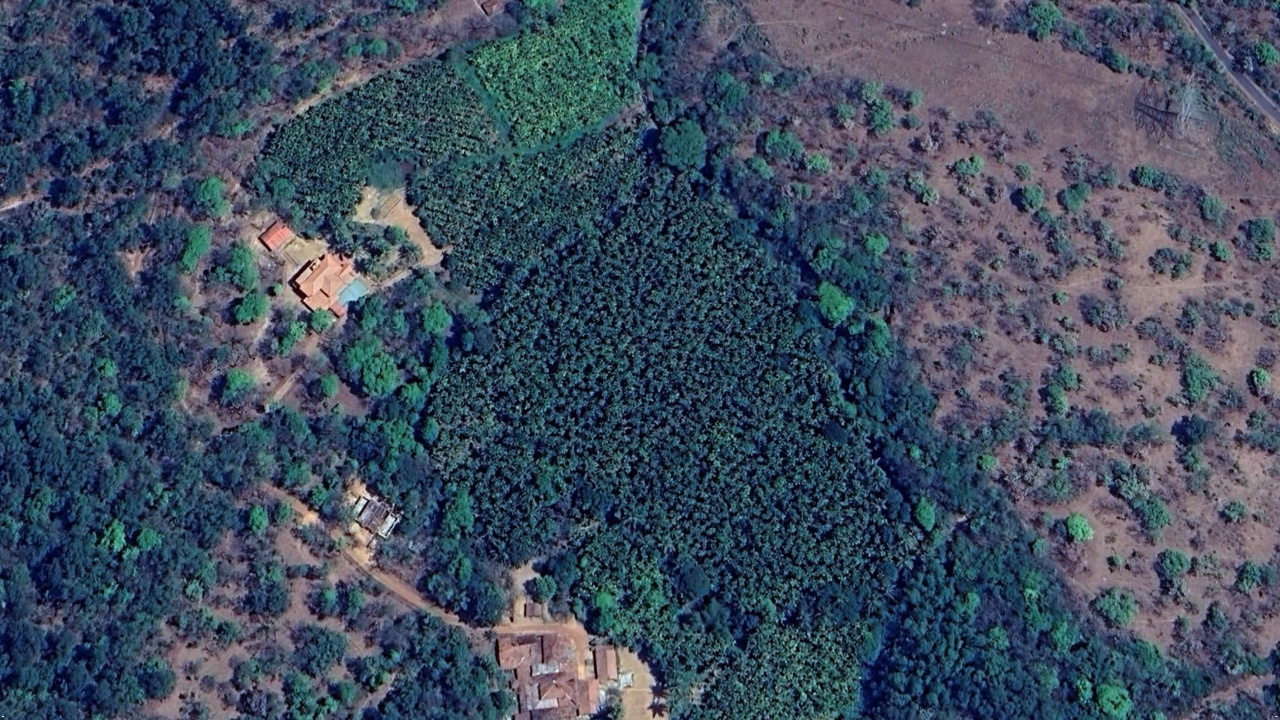arecanut: (237, 1, 937, 717)
